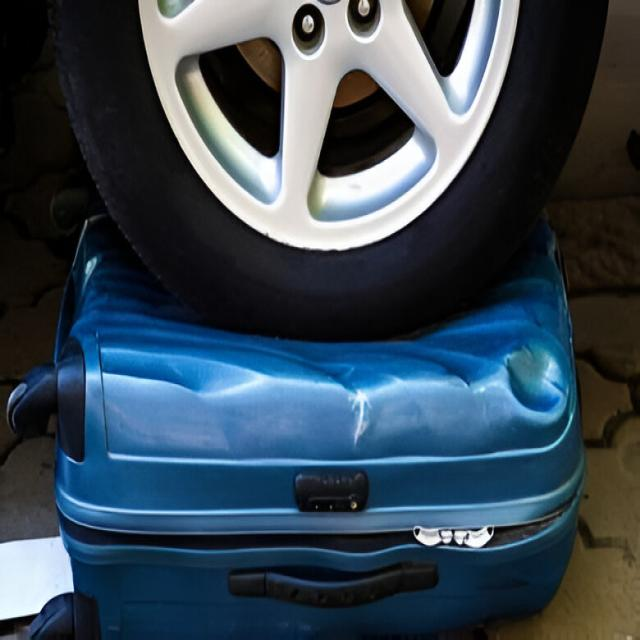Damage-bag: (101, 347, 261, 414), (316, 355, 420, 438), (489, 484, 574, 545), (502, 343, 569, 411), (429, 355, 505, 393)
